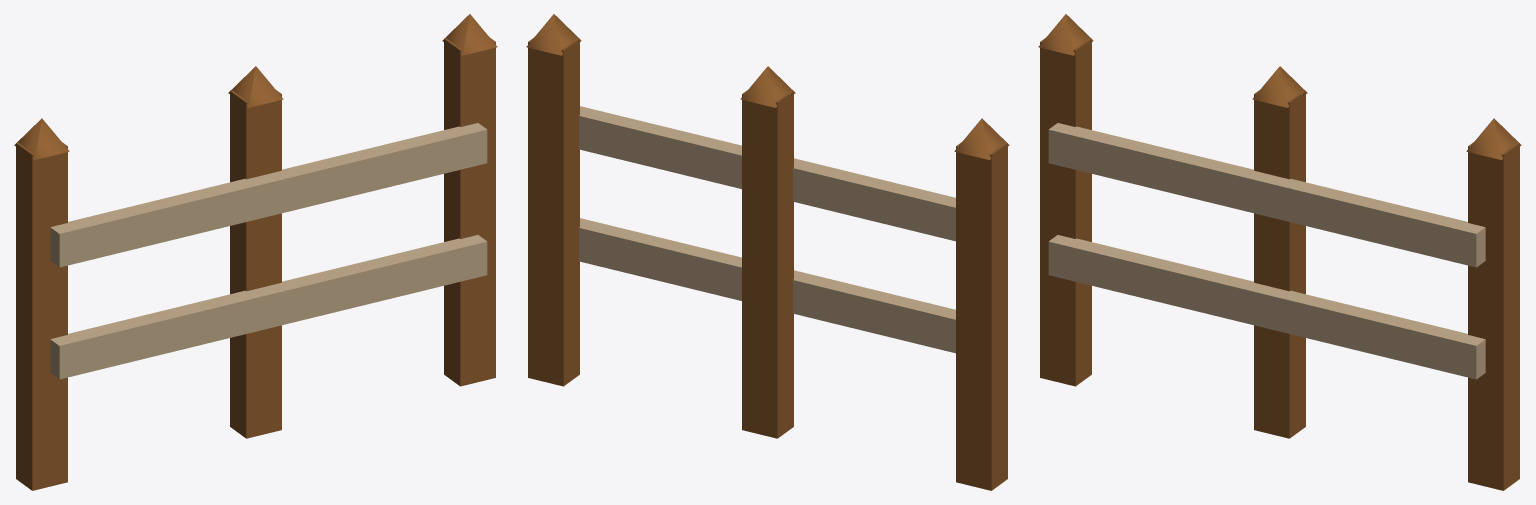
Rendered from fence.glb.
The picture shows the model from 3 angles, left to right: view 1: azimuth 30°, elevation 25°; view 2: azimuth 150°, elevation 25°; view 3: azimuth 330°, elevation 25°; orthographic projection.
Visible parts, largest first — view 1: fence_mesh; view 2: fence_mesh; view 3: fence_mesh.
Part boxes in pixels (x1,y1,x2,y2): fence_mesh: (14, 14, 497, 490); fence_mesh: (526, 14, 1009, 490); fence_mesh: (1038, 14, 1521, 490).
Size of the model in its own units: 1.3 by 0.97 by 0.1345.
